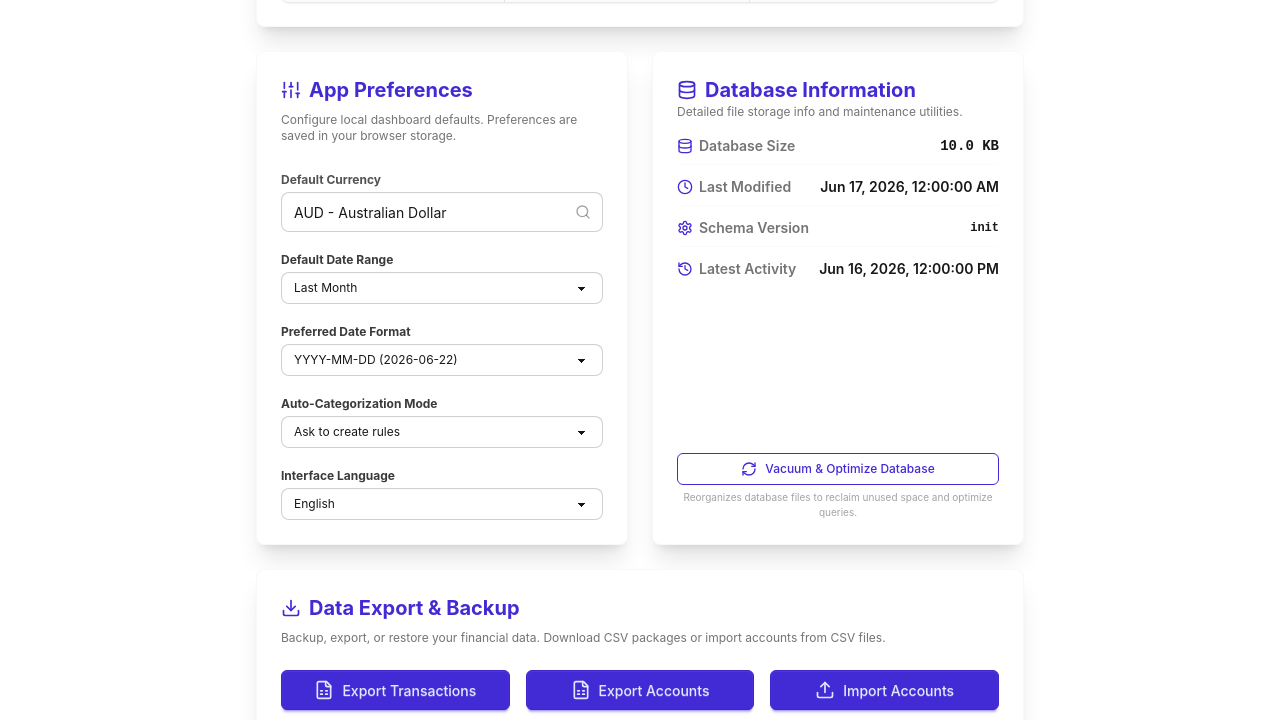
Scenario: PreferencesCard › updates preference on date format change
(page scrolled)
Select "DD/MM/YYYY (22/06/2026)" in the dropdown labelled "Preferred Date Format" at (442, 360), box [281,344,603,376]
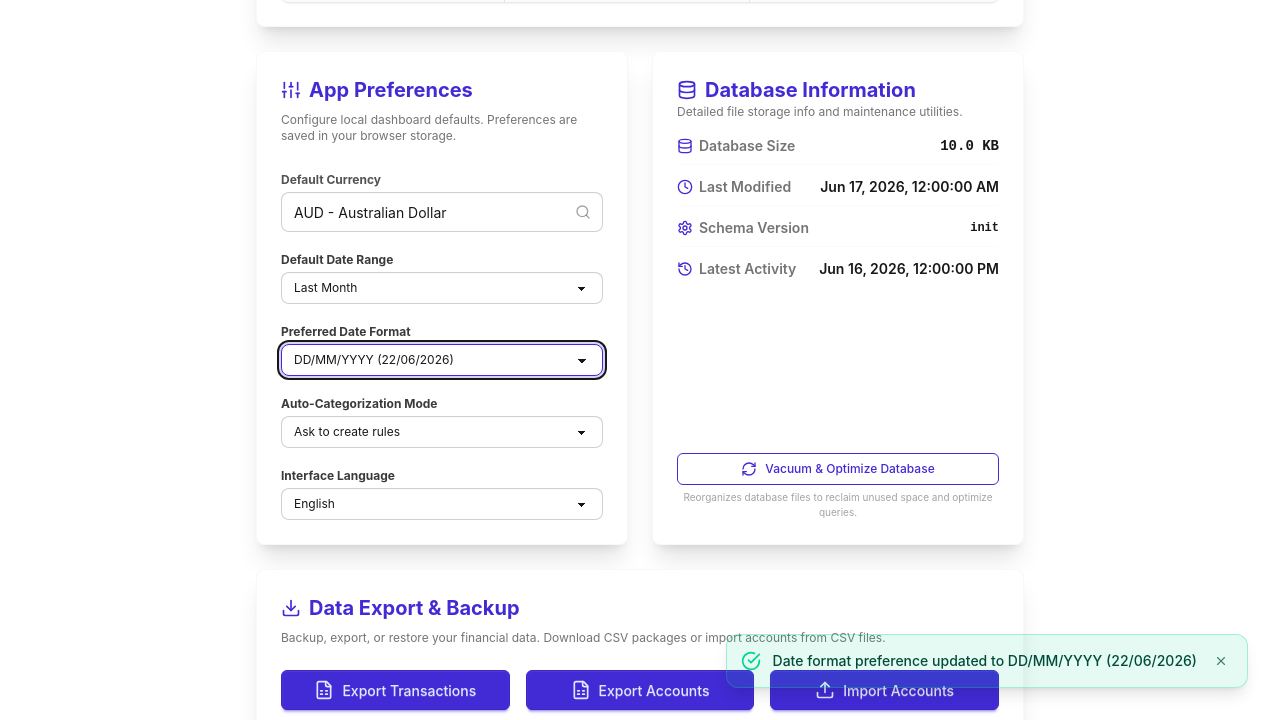
Expected: the text "Date format preference updated to DD/MM/YYYY (22/06/2026)" is shown, [773,651,1197,671]
